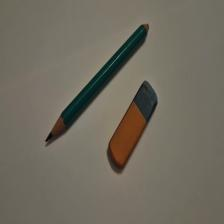eraser: (109, 81, 159, 170)
pencil: (46, 24, 150, 143)
